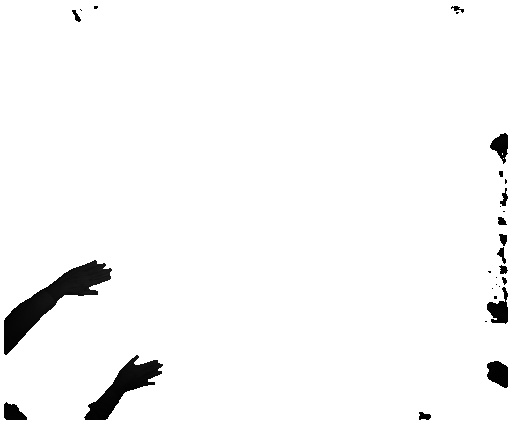hand: (117, 352, 167, 394), (64, 256, 111, 295)
